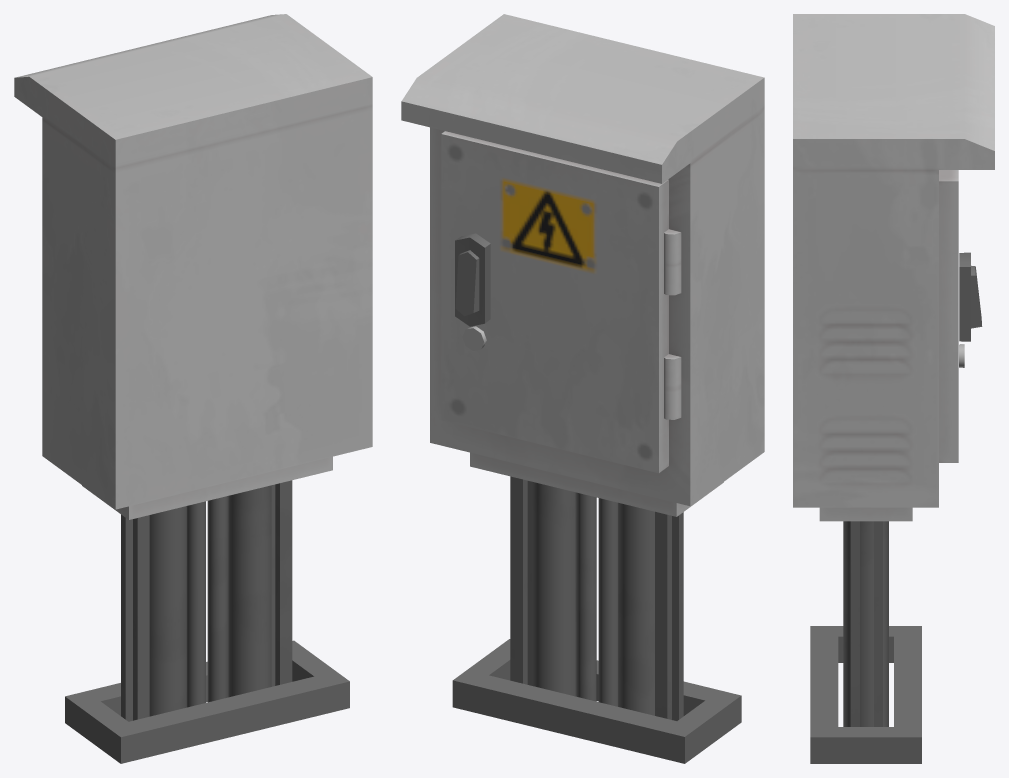
The model's file is Pfb_ElectricBox__3.fbx.
3 views of the same model, side by side, from view 1: azimuth 30°, elevation 25°; view 2: azimuth 150°, elevation 25°; view 3: azimuth 270°, elevation 25° (orthographic).
Visible parts, largest first — view 1: Mat_ElectricBox_02; view 2: Mat_ElectricBox_02; view 3: Mat_ElectricBox_02.
Part boxes in pixels (left/top/right/bottom): Mat_ElectricBox_02: left=14, top=14, right=372, bottom=763; Mat_ElectricBox_02: left=401, top=14, right=764, bottom=763; Mat_ElectricBox_02: left=793, top=14, right=994, bottom=763.
Size of the model in its own units: 0.7894 by 1.86 by 0.5382.
Materials: 1 (1 with a texture image).
